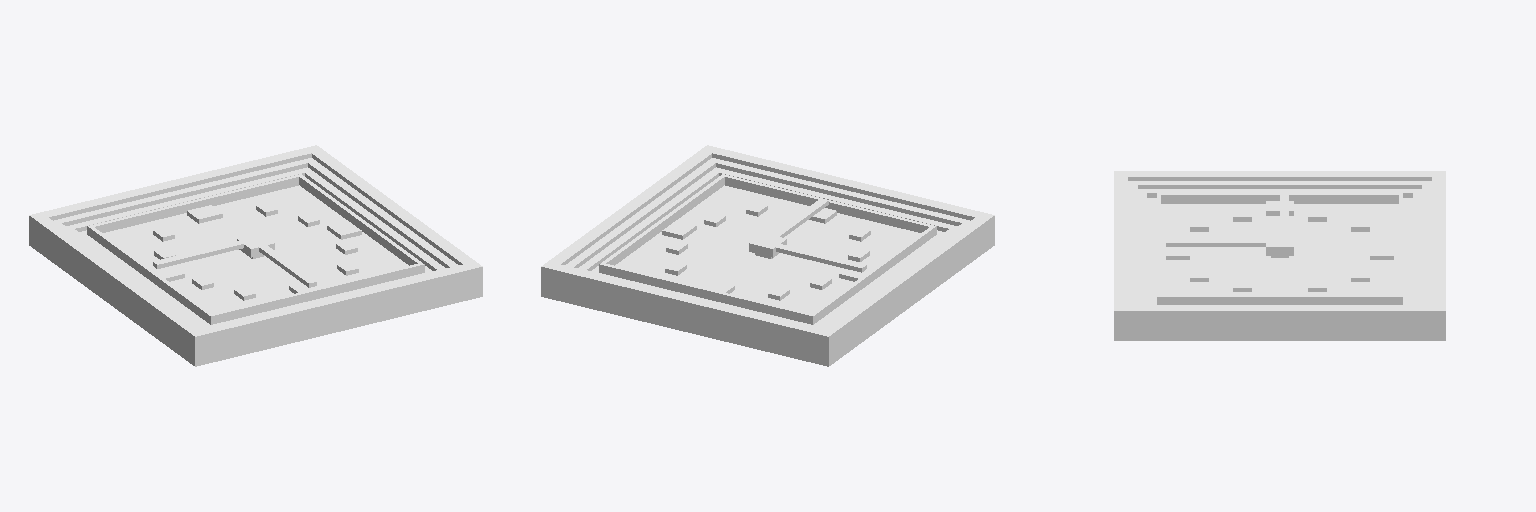
The model's file is Clock.obj.
The picture shows the model from 3 angles: view 1: azimuth 30°, elevation 25°; view 2: azimuth 150°, elevation 25°; view 3: azimuth 270°, elevation 25°; orthographic projection.
Visible parts, largest first — view 1: object 1; view 2: object 1; view 3: object 1.
Part boxes in pixels (x1,y1,x2,y2): object 1: (29,145,482,366); object 1: (541,145,994,366); object 1: (1114,171,1445,340).
Size of the model in its own units: 7 by 0.7 by 7.